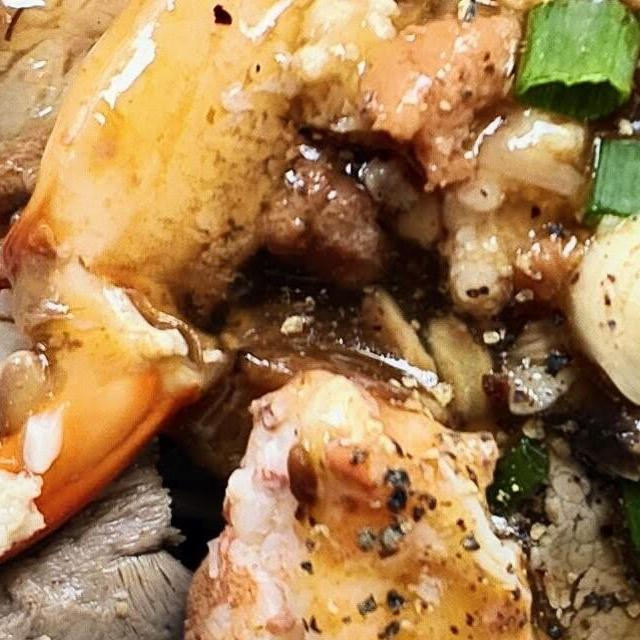thit bam: (0, 0, 640, 435)
